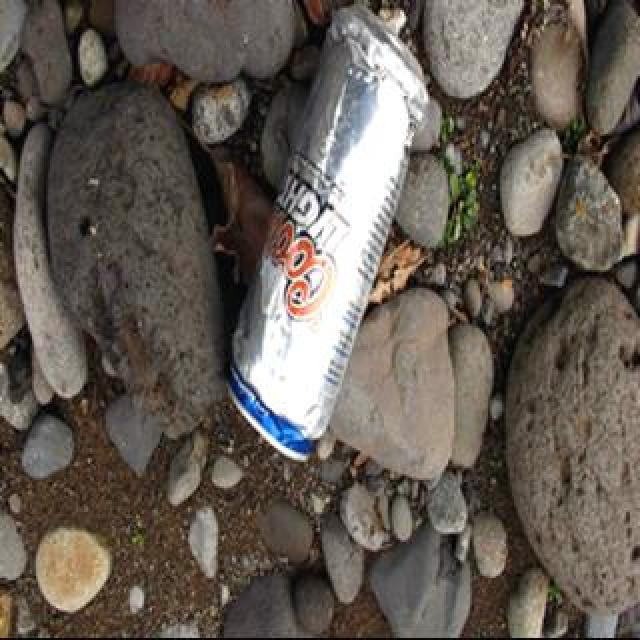Can: (239, 3, 431, 469)
